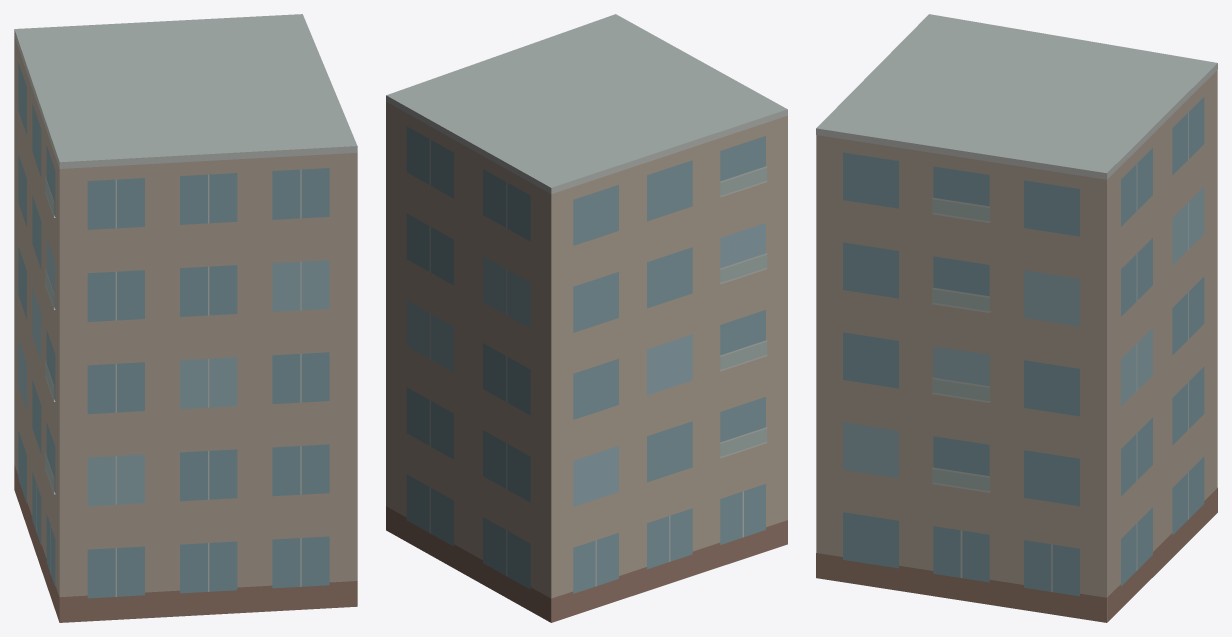
The model's file is survey-upis-32878012.glb.
The picture shows the model from 3 angles, left to right: view 1: azimuth 30°, elevation 25°; view 2: azimuth 150°, elevation 25°; view 3: azimuth 270°, elevation 25°; orthographic projection. The views are drawn at different scales.
Visible parts, largest first — view 1: survey-upis-32878012.tmp; view 2: survey-upis-32878012.tmp; view 3: survey-upis-32878012.tmp.
Boxes of the visible parts, x1,y1,x2,y2 form: survey-upis-32878012.tmp: [14, 14, 357, 622]; survey-upis-32878012.tmp: [386, 14, 787, 622]; survey-upis-32878012.tmp: [816, 14, 1217, 622].
Bounding box in the file's own units: 12.77 × 16.8 × 13.61.
